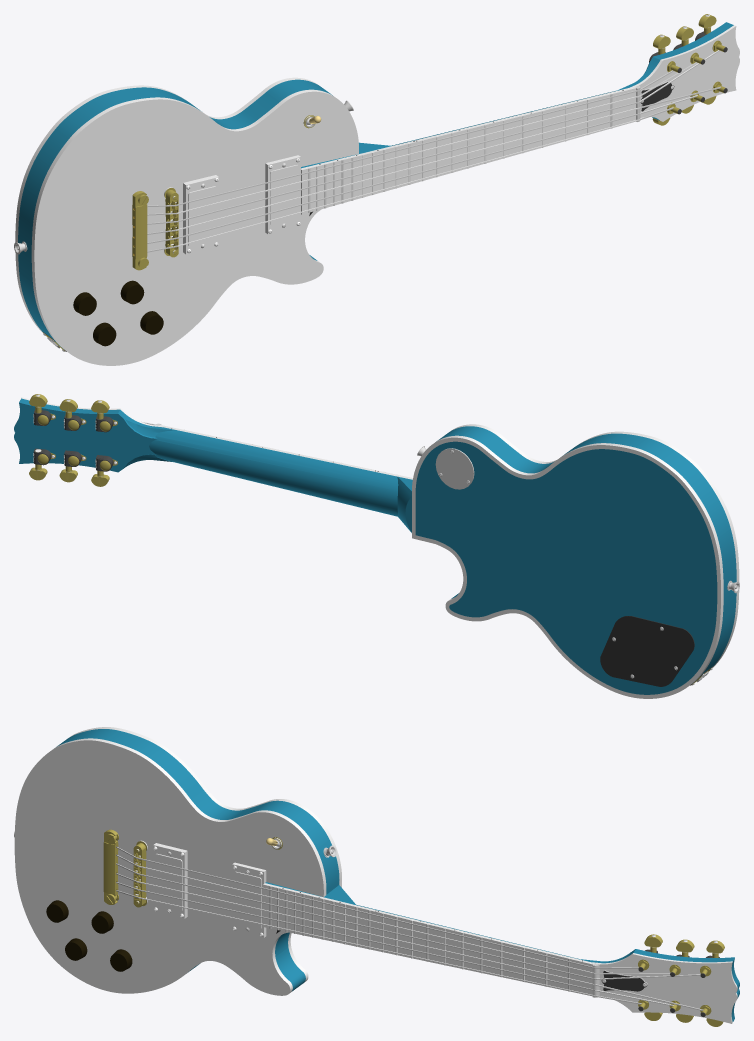
File: fire and ice.fbx
The picture shows the model from 3 angles, top to bottom: view 1: azimuth 30°, elevation 25°; view 2: azimuth 150°, elevation 25°; view 3: azimuth 330°, elevation 25°; orthographic projection. The views are drawn at different scales.
Parts seen in each view (by area): view 1: ske80CC_001, Group_004, Group_030, Group_034, Group_021, Group_022; view 2: ske80CC_001, Group_004, Group_066, Group_068; view 3: ske80CC_001, Group_004, Group_030, Group_034, Group_021, Group_022, Group_001.
Part boxes in pixels (box(x1,y1,x2,y2)): ske80CC_001: box(15, 77, 358, 365); Group_004: box(147, 14, 739, 252); Group_030: box(183, 175, 218, 254); Group_034: box(265, 155, 300, 234); Group_021: box(132, 191, 148, 270); Group_022: box(164, 187, 178, 257); ske80CC_001: box(412, 424, 739, 698); Group_004: box(14, 394, 412, 532); Group_066: box(600, 616, 694, 686); Group_068: box(435, 448, 474, 489); ske80CC_001: box(14, 727, 341, 995); Group_004: box(116, 846, 739, 1026); Group_030: box(153, 843, 187, 918); Group_034: box(232, 862, 266, 937); Group_021: box(103, 829, 118, 904); Group_022: box(133, 840, 147, 907); Group_001: box(601, 970, 647, 991).
Bounding box in the file's own units: 39.05 × 13.14 × 4.02.
